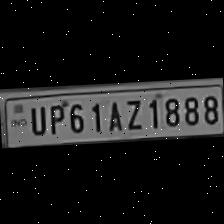1: (86, 97, 104, 132), (142, 94, 160, 128)
6: (62, 99, 86, 134)
8: (198, 90, 220, 124), (160, 92, 180, 126), (180, 91, 200, 125)
A: (102, 96, 122, 132)
P: (44, 100, 64, 134)
U: (24, 102, 46, 134)
Z: (120, 94, 144, 130)
